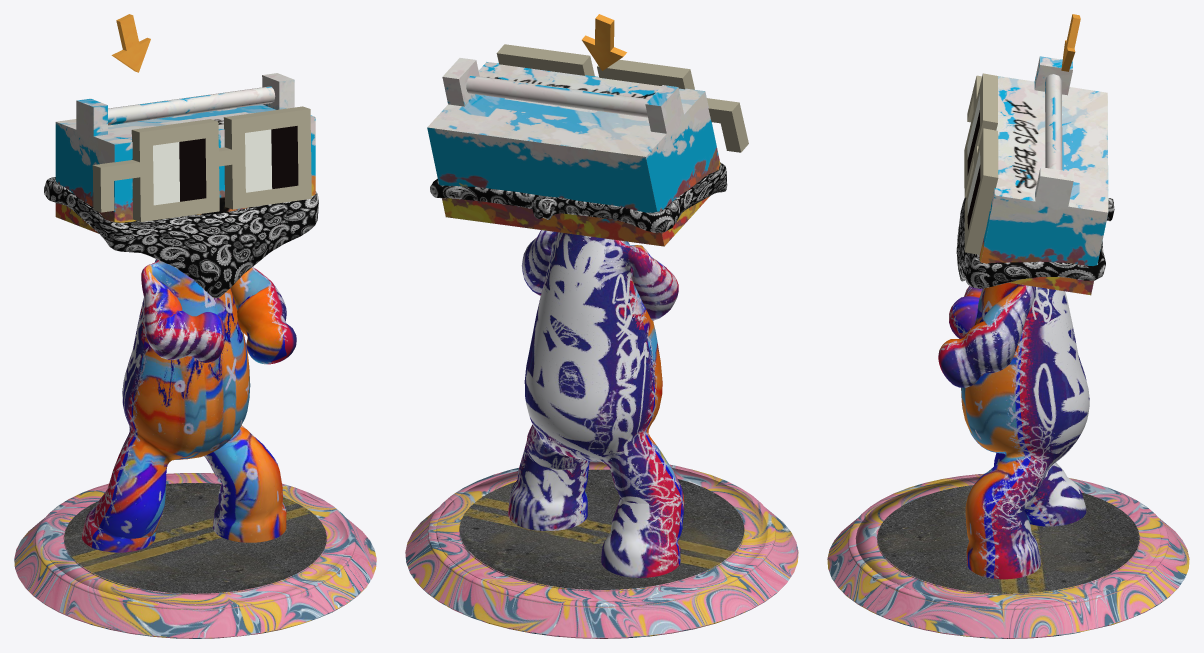
3 renders of one model, left to right at view 1: azimuth 30°, elevation 25°; view 2: azimuth 150°, elevation 25°; view 3: azimuth 270°, elevation 25°, orthographic. The views are drawn at different scales.
Visible parts, largest first — view 1: BBody; view 2: BBody; view 3: BBody.
Part boxes in pixels (x1,y1,x2,y2): BBody: (14, 14, 376, 638); BBody: (405, 14, 798, 638); BBody: (827, 14, 1189, 638).
Bounding box in the file's own units: 1.45 × 2.34 × 1.45.
Materials: 7 (7 with a texture image).
